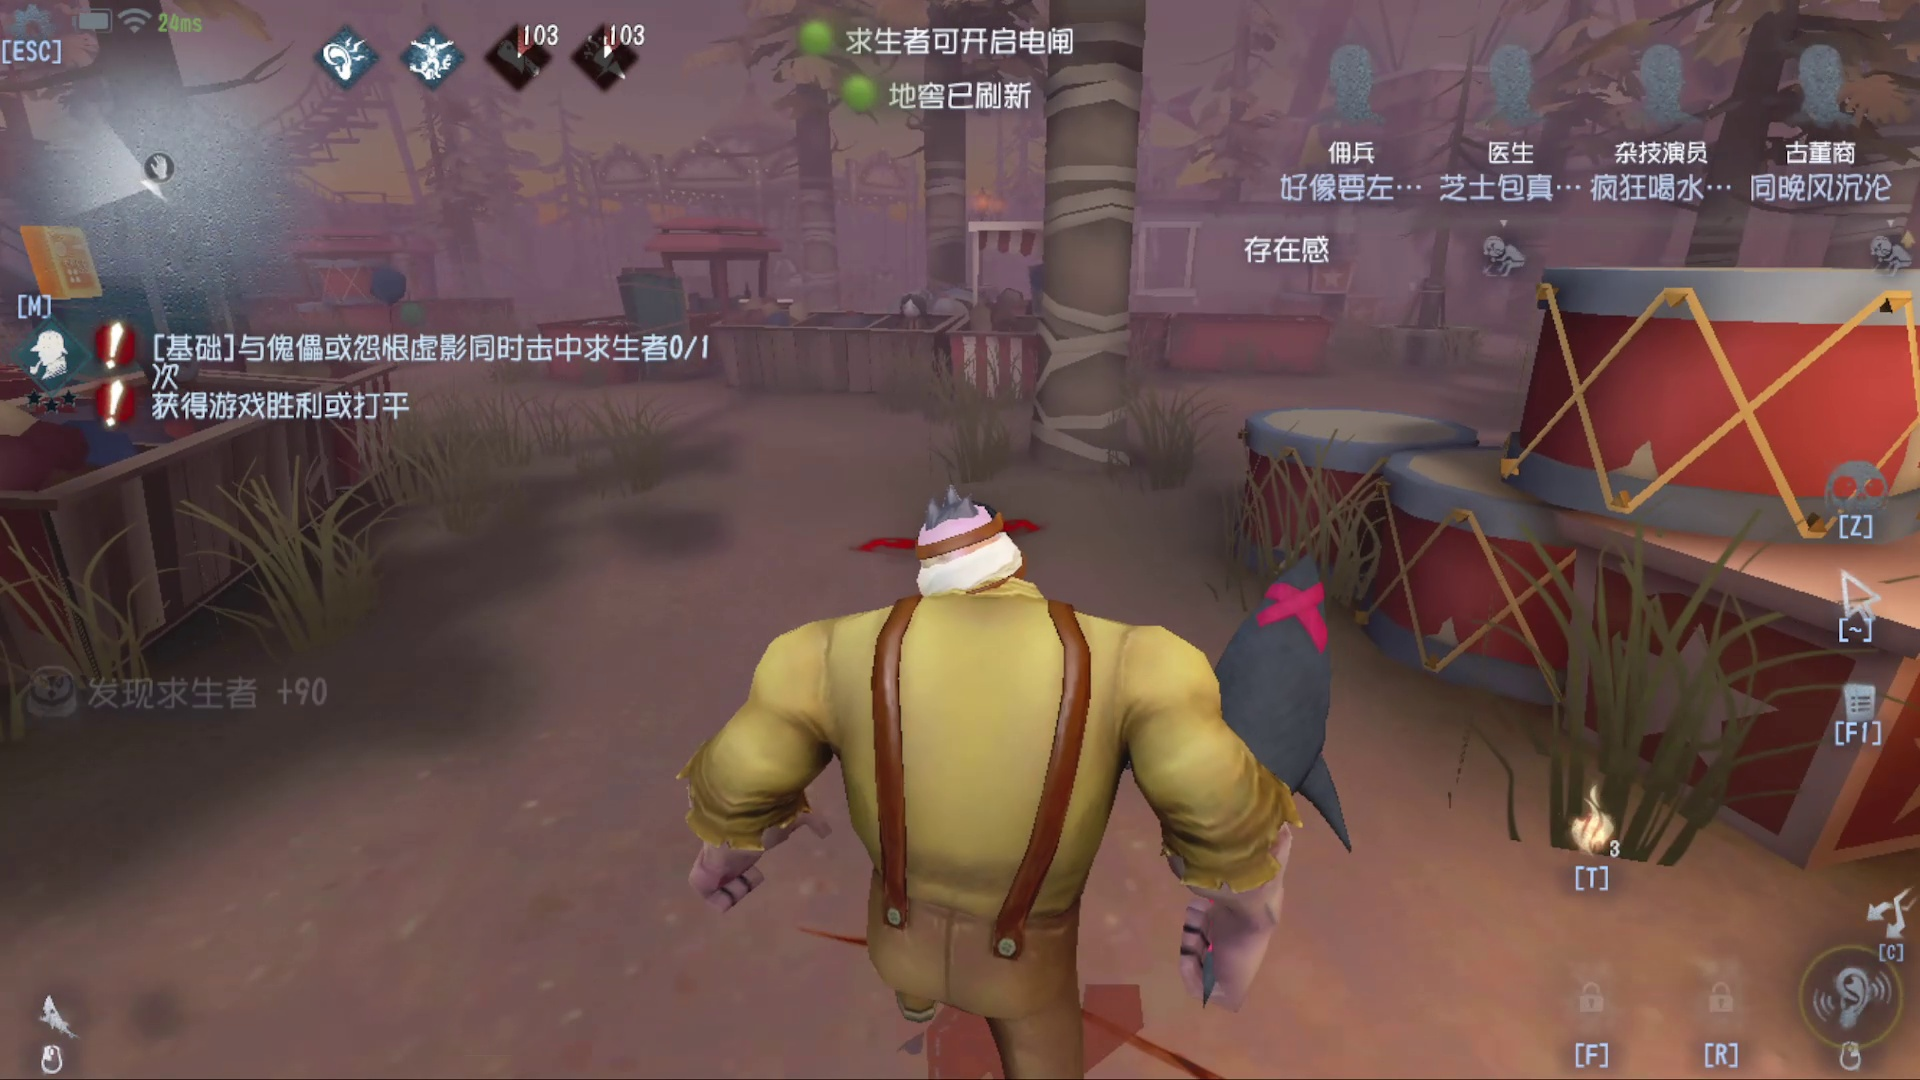木板: (597, 253, 711, 381)
